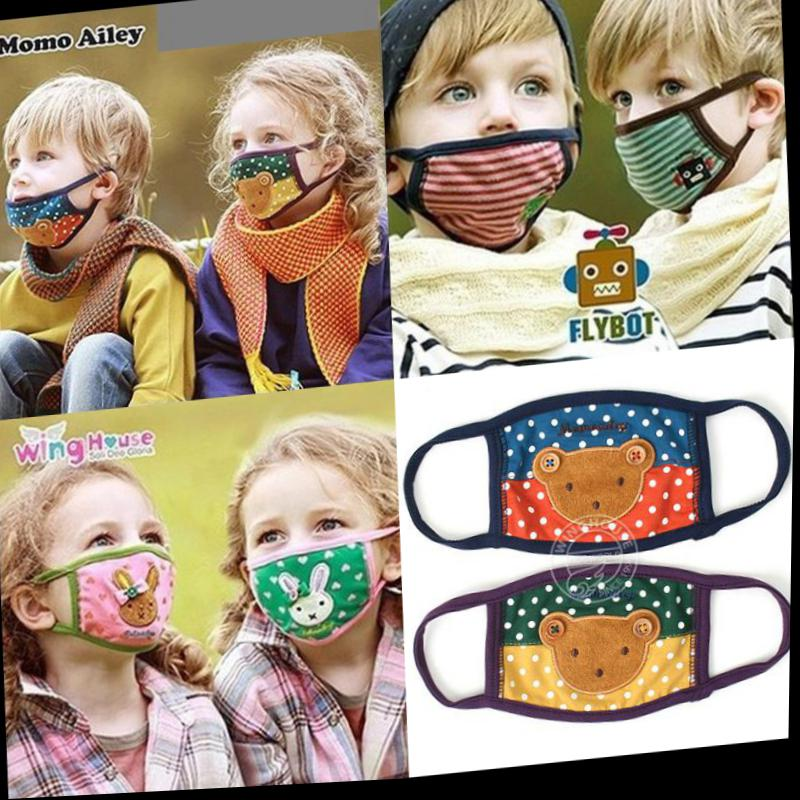OK: (602, 53, 765, 220), (234, 497, 387, 654), (36, 502, 185, 655), (218, 117, 325, 227)
WRONG: (407, 48, 589, 235), (1, 128, 115, 251)
